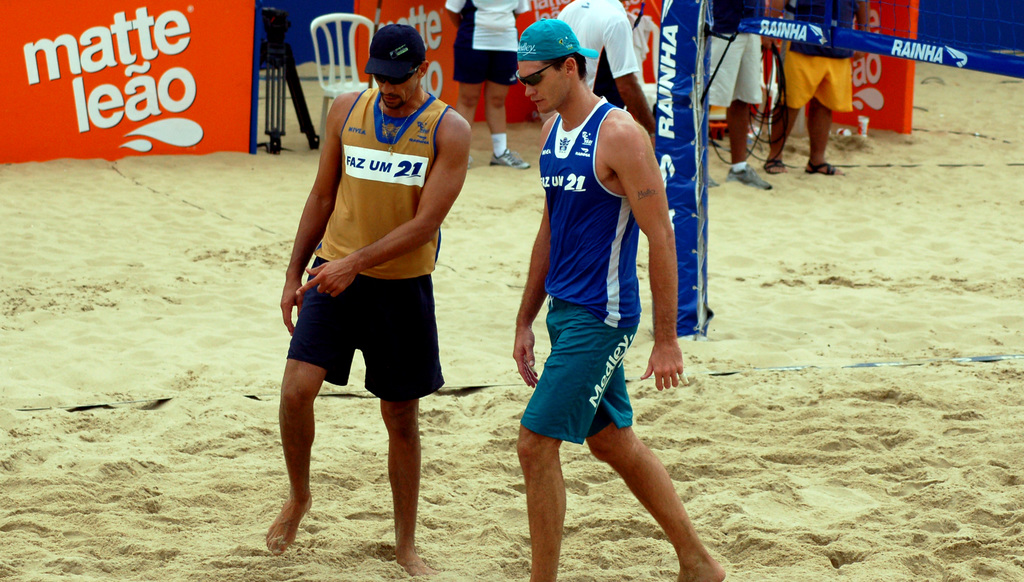Person: (764, 0, 873, 178), (446, 0, 533, 169), (555, 0, 658, 131), (705, 0, 773, 191)
